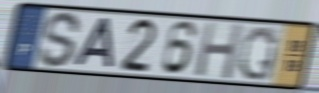2: (118, 16, 160, 75)
6: (160, 20, 198, 77)
A: (72, 15, 116, 70)
H: (193, 21, 246, 83)
Q: (236, 24, 280, 82)
S: (37, 9, 84, 70)
